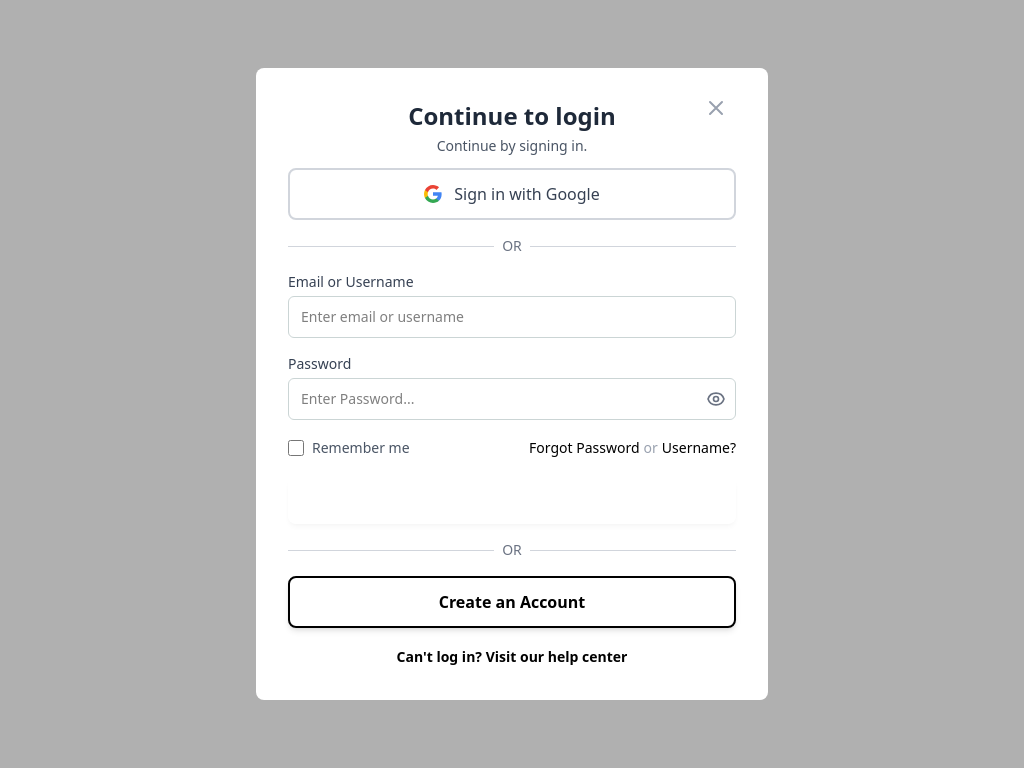
EmbeddedLoginForm Component › should show email-not-found banner
Type "nouser@example.com" into the field with placeholder "Enter email or username" at point(512, 317), box [288,296,736,338]
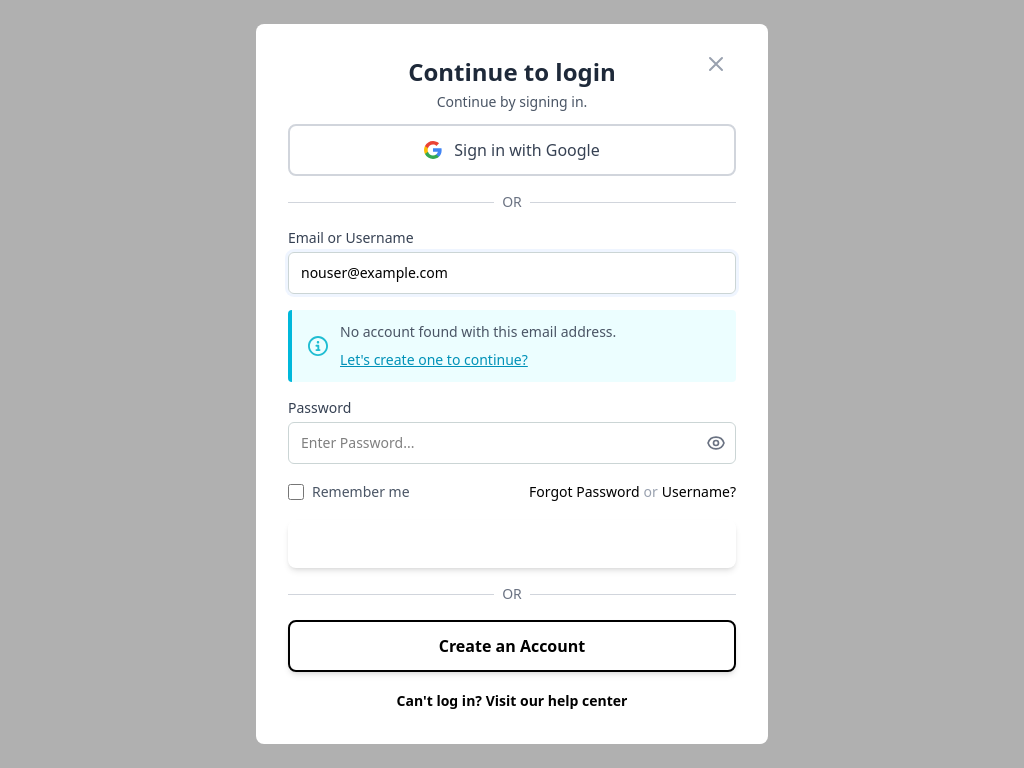
Now the text "No account found with this email address." is shown, box [340,322,616,342]
